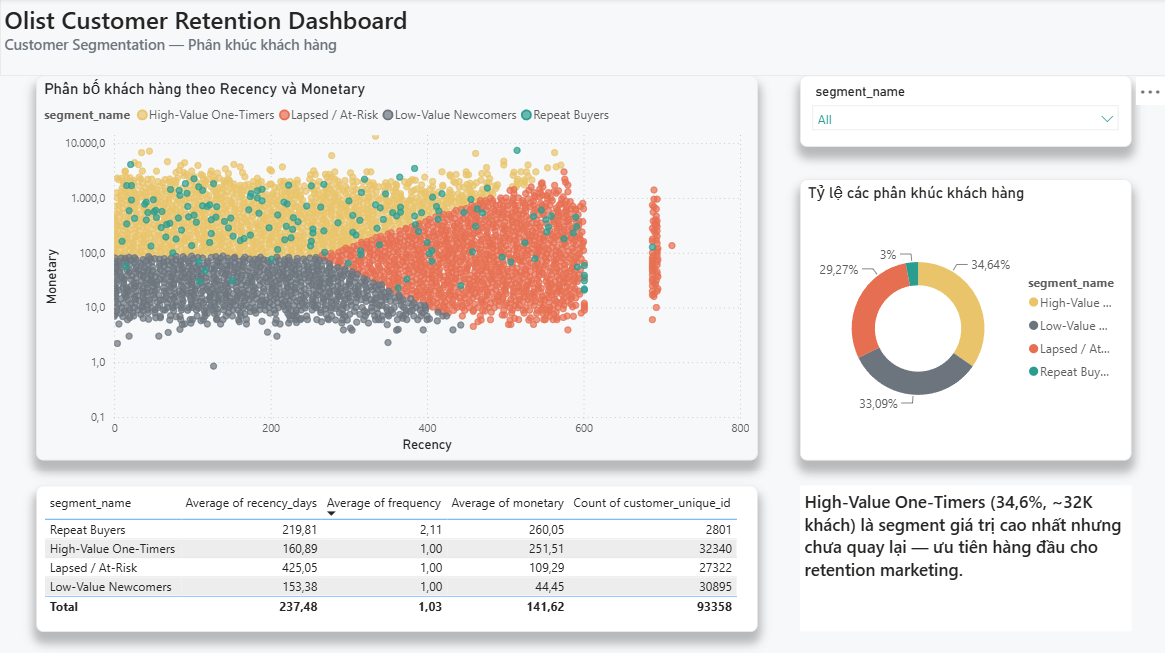

Layout of this report page (visuals, bound fields, positions):
{"tool":"powerbi","page":{"name":"Customer Segmentation","canvas":[1280,720],"ordinal":1},"visuals":[{"type":"donutChart","title":"Tỷ lệ các phân khúc khách hàng","fields":{"Category":["customer_segments.segment_name"],"Y":["CountNonNull(customer_segments.customer_unique_id)"]},"box":[878.2,199,363.6,308.7],"z":0},{"type":"tableEx","fields":{"Values":["customer_segments.segment_name","customer_segments.recency_days","customer_segments.frequency","customer_segments.monetary","customer_segments.customer_unique_id"]},"box":[39.8,535.2,791.8,160.5],"z":1000},{"type":"scatterChart","title":"Phân bố khách hàng theo Recency và Monetary","fields":{"X":["customer_segments.recency_days"],"Y":["customer_segments.monetary"],"Series":["customer_segments.segment_name"],"Category":["customer_segments.customer_unique_id"]},"box":[39.8,85.1,791.8,422.6],"z":2000},{"type":"slicer","fields":{"Values":["customer_segments.segment_name"]},"box":[878.2,85.1,363.6,78.2],"z":3000},{"type":"textbox","box":[878.6,535.7,364.3,160],"z":4000},{"type":"textbox","box":[0,0,1280,85.7],"z":5000}]}

Visuals, with their boxes in screenshot pixels (x1, y1, x2, y2), scaled from the page's 1280x720 canvas onto the 1165x653 screenshot:
"Tỷ lệ các phân khúc khách hàng" donutChart: 799, 180, 1130, 460
tableEx - customer_segments.segment_name x customer_segments.recency_days: 36, 485, 757, 631
"Phân bố khách hàng theo Recency và Monetary" scatterChart: 36, 77, 757, 460
slicer - customer_segments.segment_name: 799, 77, 1130, 148
textbox: 800, 486, 1131, 631
textbox: 0, 0, 1164, 78
